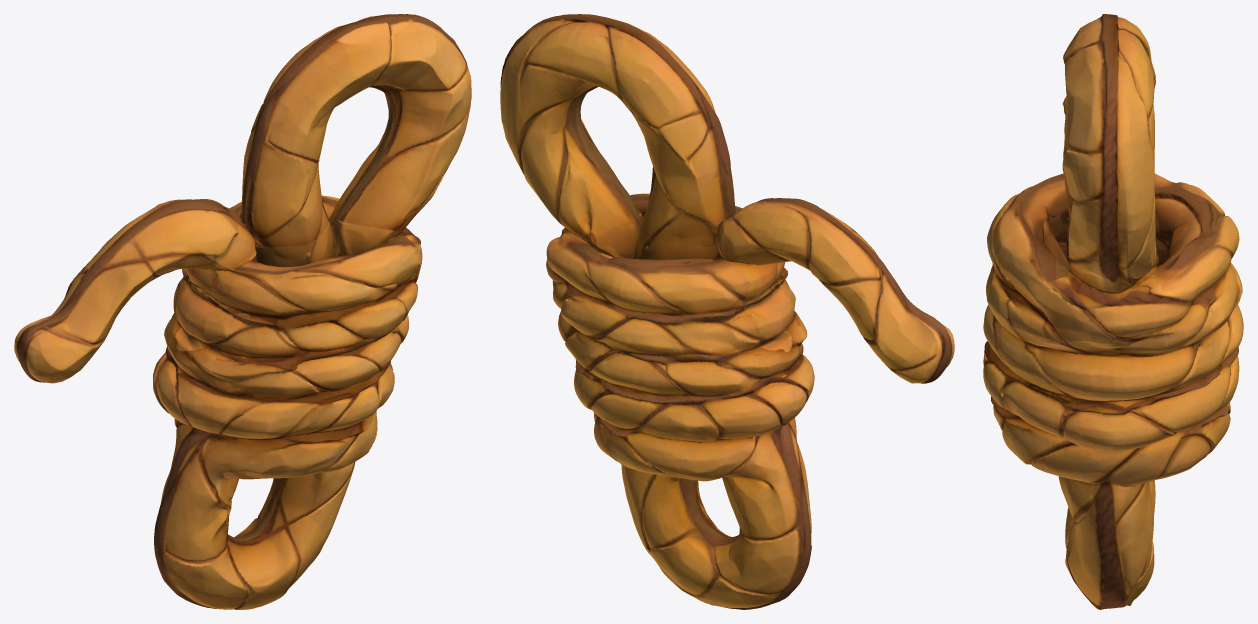
Rendered from rope.glb.
3 views of the same model, side by side, from view 1: azimuth 30°, elevation 25°; view 2: azimuth 150°, elevation 25°; view 3: azimuth 270°, elevation 25° (orthographic). The views are drawn at different scales.
Size of the model in its own units: 1.68 by 2 by 0.7388.
Materials: 1 (1 with a texture image).
